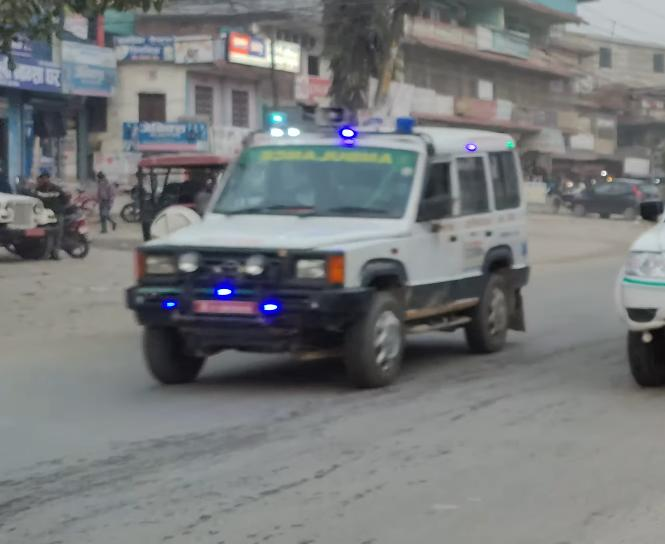ambulance: (112, 106, 541, 392)
